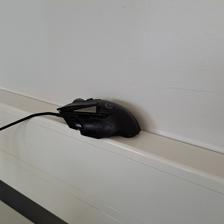mouse: (54, 95, 141, 140)
